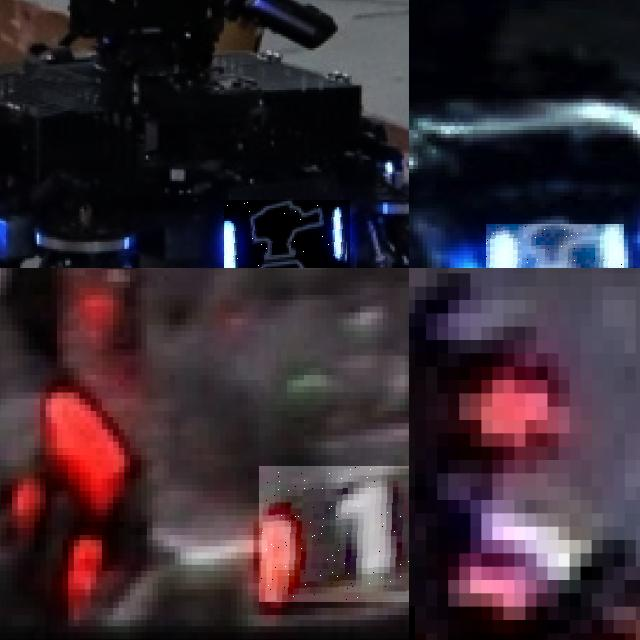Bs: (224, 199, 349, 268), (486, 223, 623, 268)
R1: (259, 466, 409, 601), (1, 472, 102, 608)
